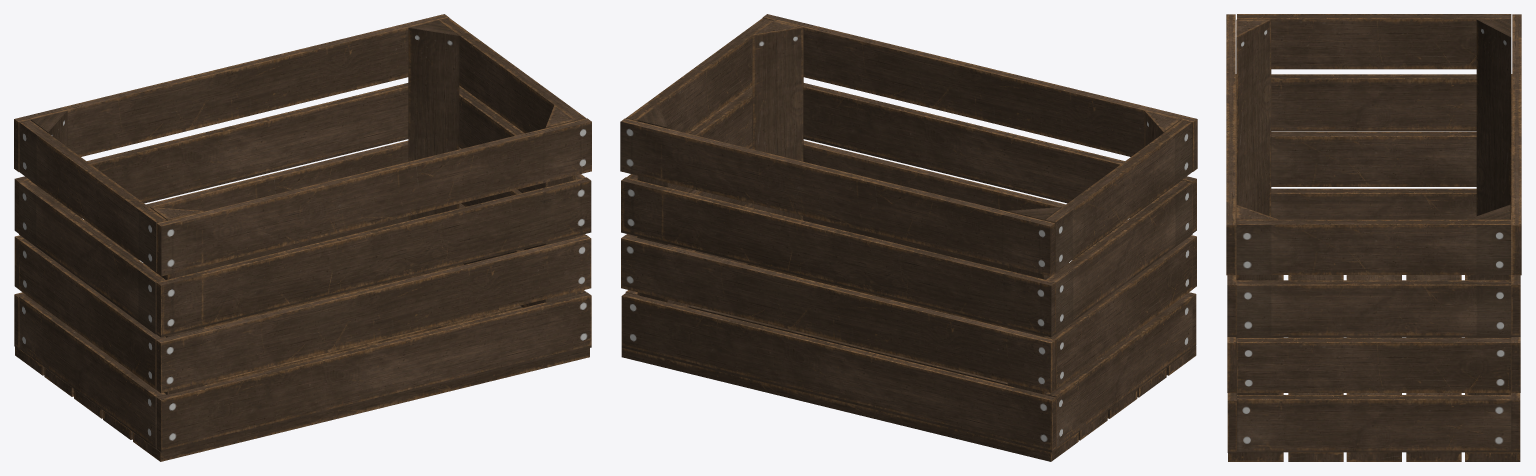
Rendered from wooden_crate_2.gltf.
The picture shows the model from 3 angles, left to right: view 1: azimuth 30°, elevation 25°; view 2: azimuth 150°, elevation 25°; view 3: azimuth 270°, elevation 25°; orthographic projection.
Parts seen in each view (by area): view 1: Box_03; view 2: Box_03; view 3: Box_03.
Boxes of the visible parts, left/top/right/bottom form: Box_03: left=14, top=14, right=591, bottom=461; Box_03: left=620, top=14, right=1197, bottom=461; Box_03: left=1226, top=14, right=1521, bottom=461.
Size of the model in its own units: 0.6496 by 0.3397 by 0.3832.
Materials: 1 (1 with a texture image).
